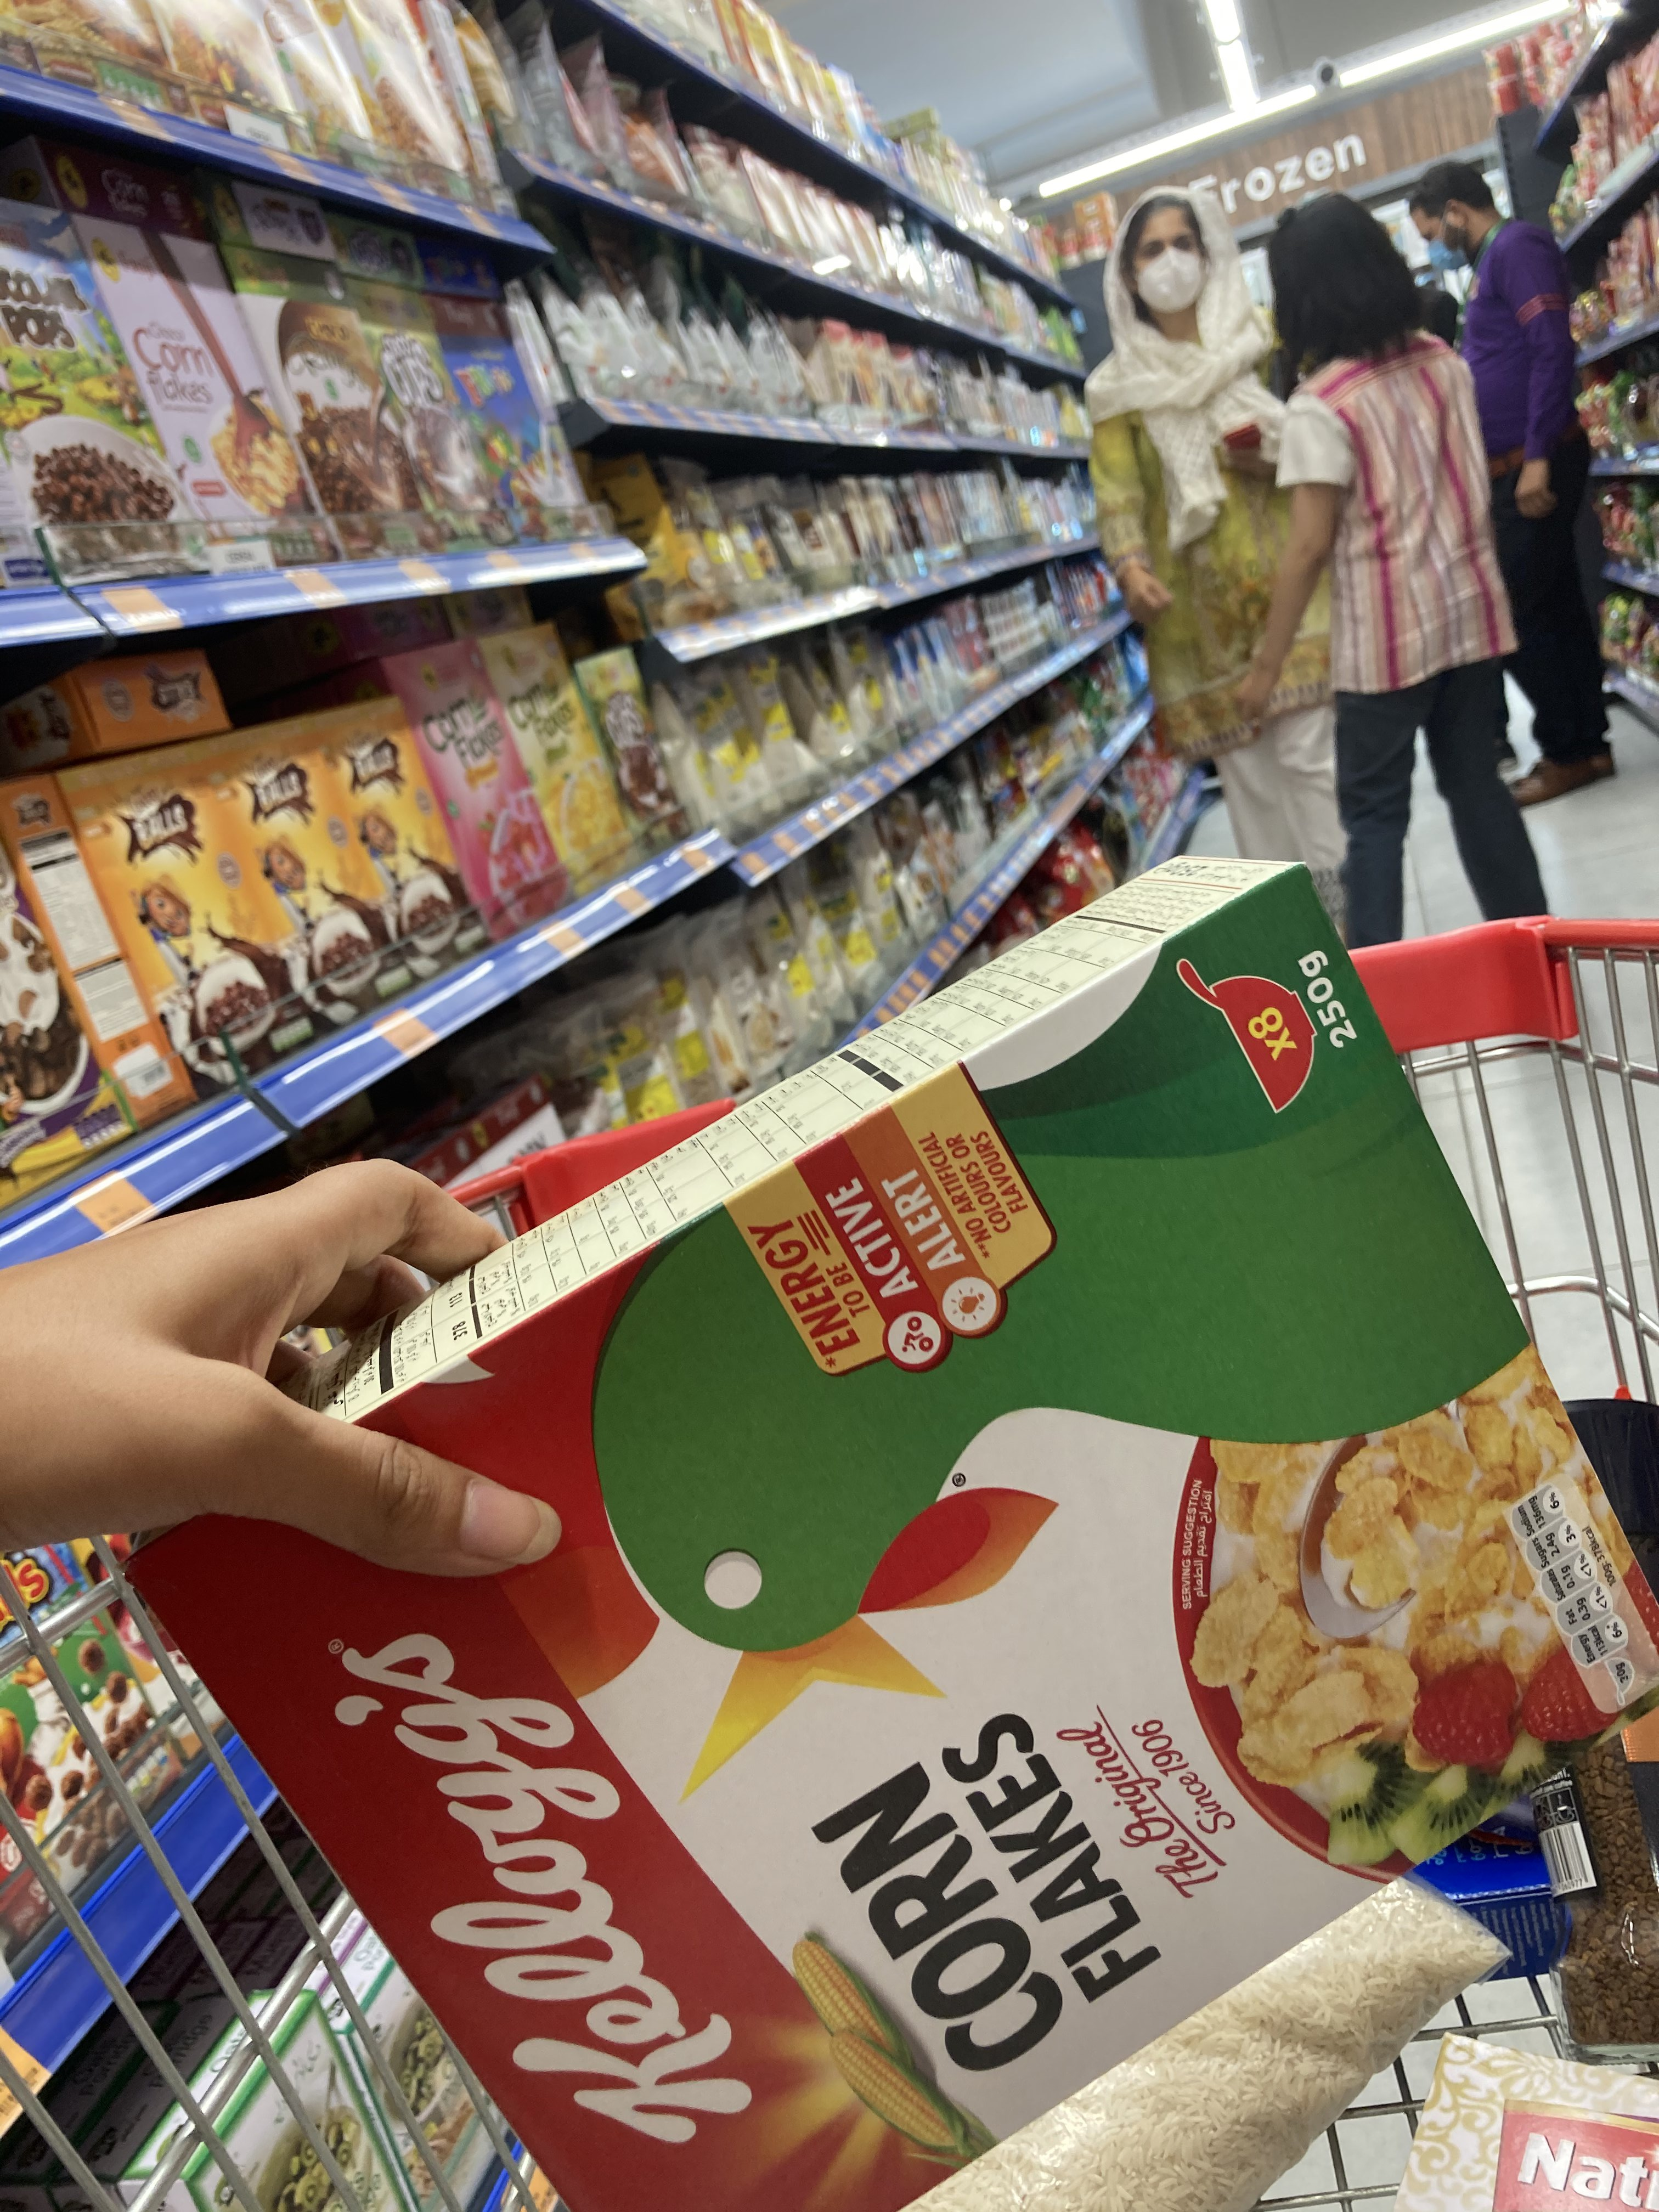Kellogg's Corn Flakes: (122, 855, 1659, 2212)
